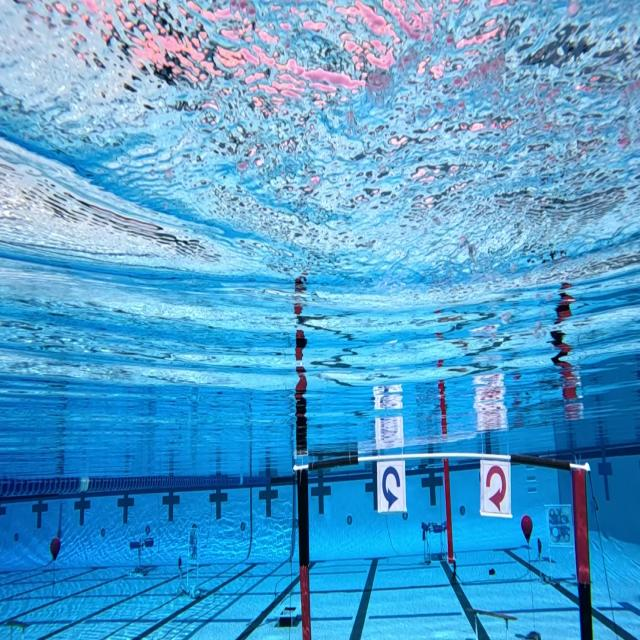blue_side: (370, 454, 408, 524)
red_side: (474, 453, 517, 522)
